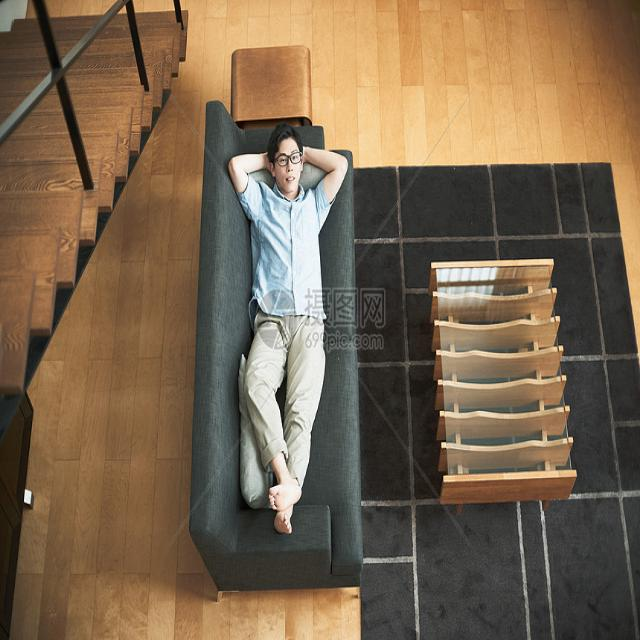lie: (237, 92, 337, 530)
